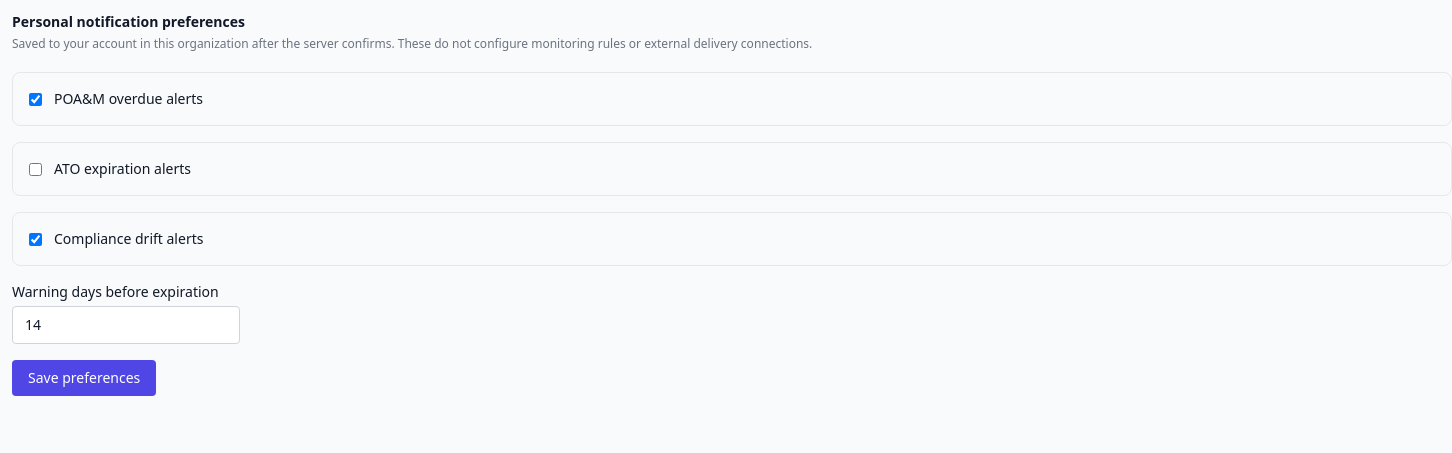
Test case: notification preferences contract › reports a failed save without a success indicator
Step 1. Click the button "Save preferences" → (84, 378), box [12,360,156,396]
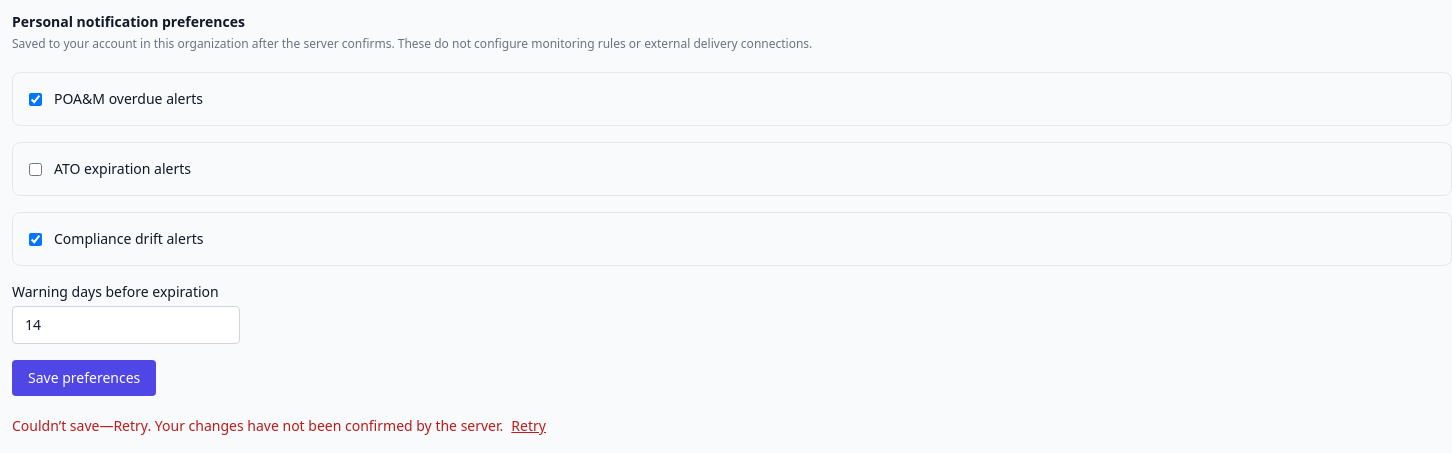
Check: the message "Couldn’t save—Retry. Your changes have not been confirmed by the server. Retry" is shown, box [12,416,546,436]
Check: the message shows "Couldn’t save", box [12,416,503,435]
Check: the button "Retry" is shown, box [511,416,546,436]
